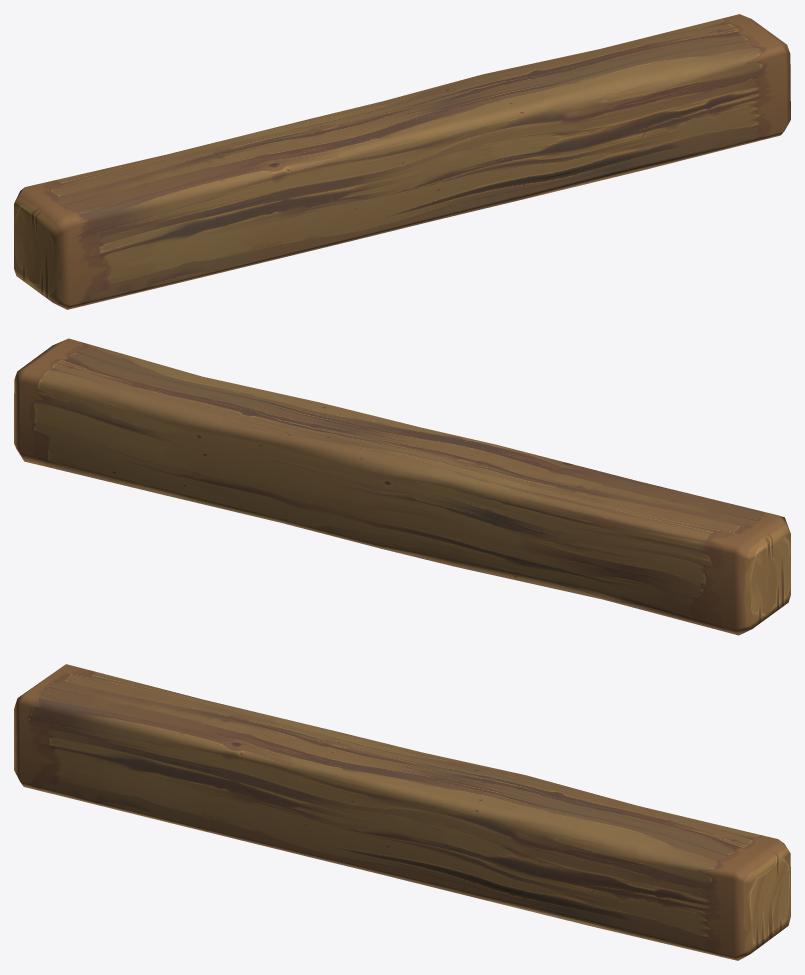
Rendered from SM_MOD_basic_beam_square_town_03.fbx.
The picture shows the model from 3 angles, top to bottom: view 1: azimuth 30°, elevation 25°; view 2: azimuth 150°, elevation 25°; view 3: azimuth 330°, elevation 25°; orthographic projection.
Visible parts, largest first — view 1: SM_MOD_basic_beam_square_town_03_LOD0; view 2: SM_MOD_basic_beam_square_town_03_LOD0; view 3: SM_MOD_basic_beam_square_town_03_LOD0.
Part boxes in pixels (x1=…): SM_MOD_basic_beam_square_town_03_LOD0: x1=14, y1=14, x2=790, y2=309; SM_MOD_basic_beam_square_town_03_LOD0: x1=14, y1=338, x2=790, y2=635; SM_MOD_basic_beam_square_town_03_LOD0: x1=14, y1=664, x2=790, y2=960.
Size of what is drawn, in the model's own units: 300 by 35.8 by 35.8.
